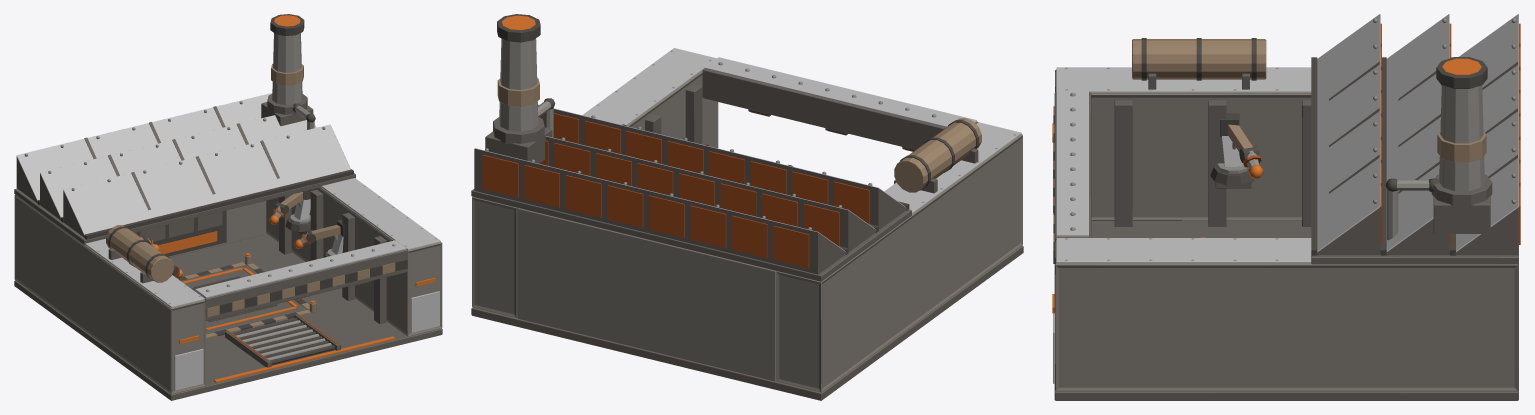
The model's file is crucible_vehicle_plant.glb.
3 views of the same model, side by side, from view 1: azimuth 30°, elevation 25°; view 2: azimuth 150°, elevation 25°; view 3: azimuth 270°, elevation 25° (orthographic). The views are drawn at different scales.
Parts seen in each view (by area): view 1: Body; view 2: Body; view 3: Body.
Part boxes in pixels (x1,y1,x2,y2): Body: (14,14,442,400); Body: (471,14,1023,400); Body: (1052,14,1520,400).
Bounding box in the file's own units: 22.8 × 17.43 × 22.97.
